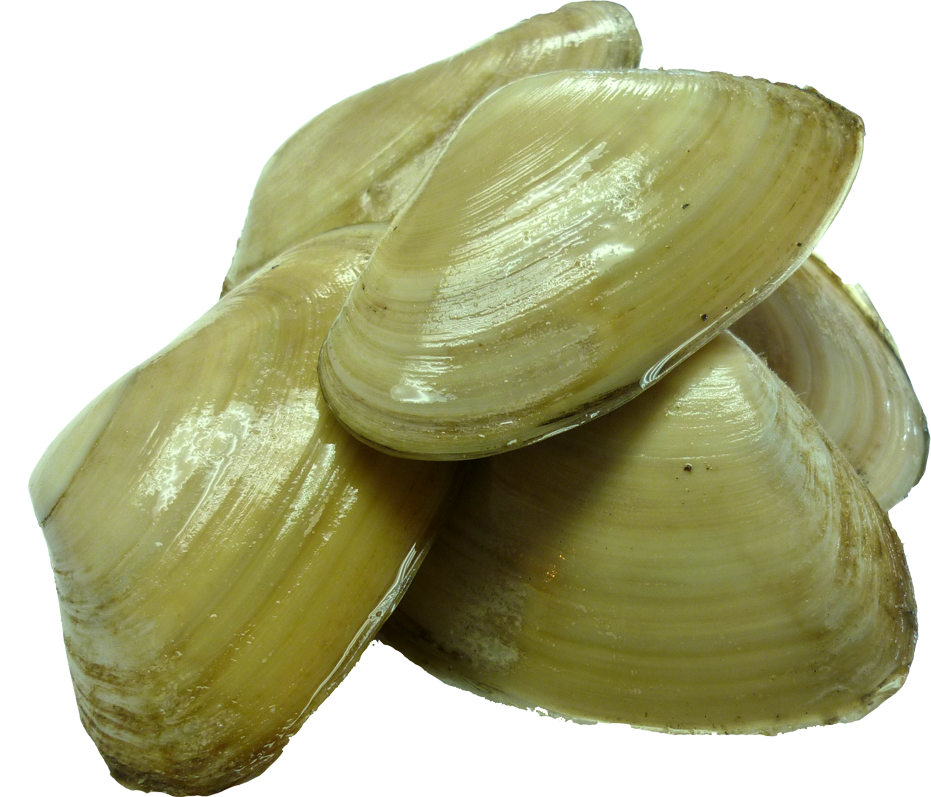tuatua: (20, 218, 438, 797), (389, 330, 919, 738), (319, 69, 866, 464), (216, 1, 646, 286)
